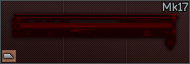FN SCAR-H 7.62x51 upper receiver: (0, 0, 190, 64)
